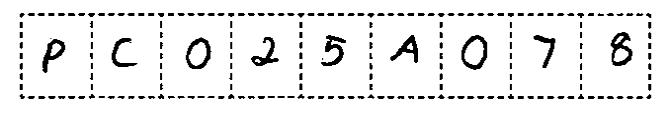0: (455, 31, 494, 74), (180, 31, 215, 77)
2: (244, 32, 286, 76)
5: (314, 33, 352, 70)
7: (525, 26, 563, 73)
8: (604, 27, 638, 69)
A: (385, 29, 423, 65)
C: (104, 31, 142, 77)
P: (38, 35, 69, 78)
